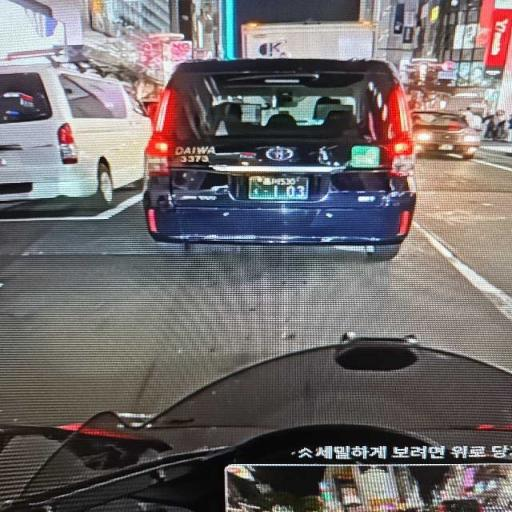car: (144, 59, 415, 259), (0, 63, 151, 204), (412, 112, 481, 159), (438, 499, 484, 511)
lane: (0, 204, 511, 423), (416, 153, 511, 295)
person: (484, 110, 507, 140), (463, 107, 482, 130), (507, 115, 511, 142)
truck: (241, 22, 375, 60)
